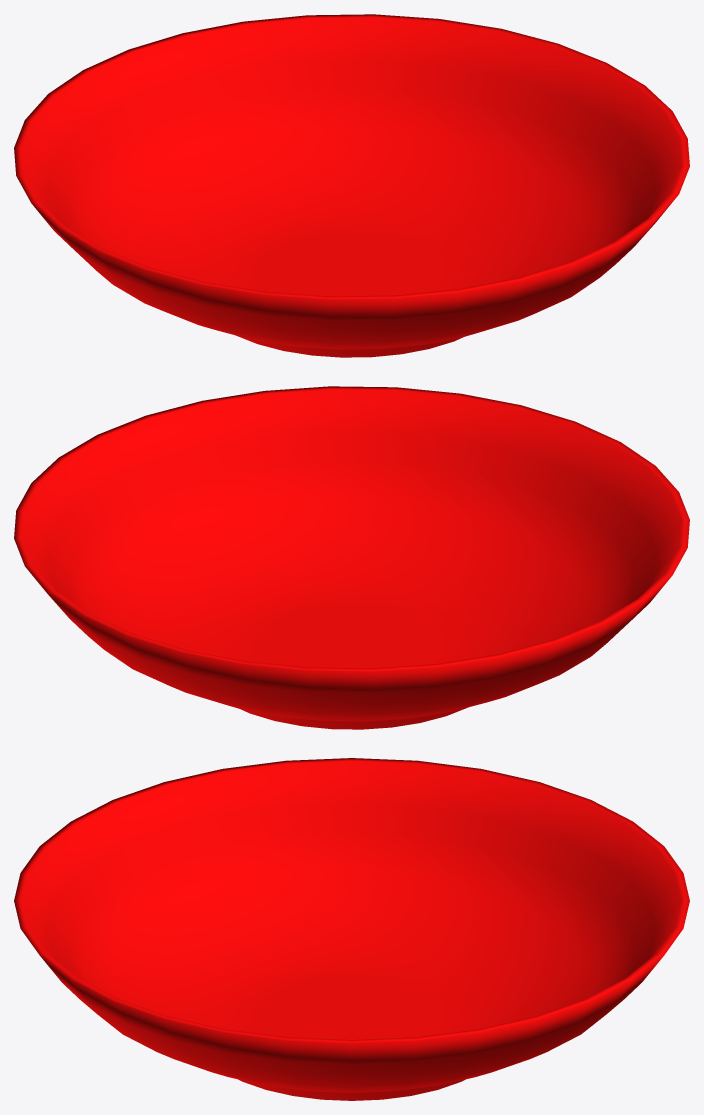
The model's file is SM_Bowl.FBX.
3 renders of one model, top to bottom at view 1: azimuth 30°, elevation 25°; view 2: azimuth 150°, elevation 25°; view 3: azimuth 270°, elevation 25°, orthographic.
Parts seen in each view (by area): view 1: default; view 2: default; view 3: default.
Boxes of the visible parts, bbox=[...] form: default: bbox=[14, 14, 689, 357]; default: bbox=[14, 386, 689, 729]; default: bbox=[14, 758, 689, 1100].
Size of the model in its own units: 8.92 by 1.96 by 8.92.
